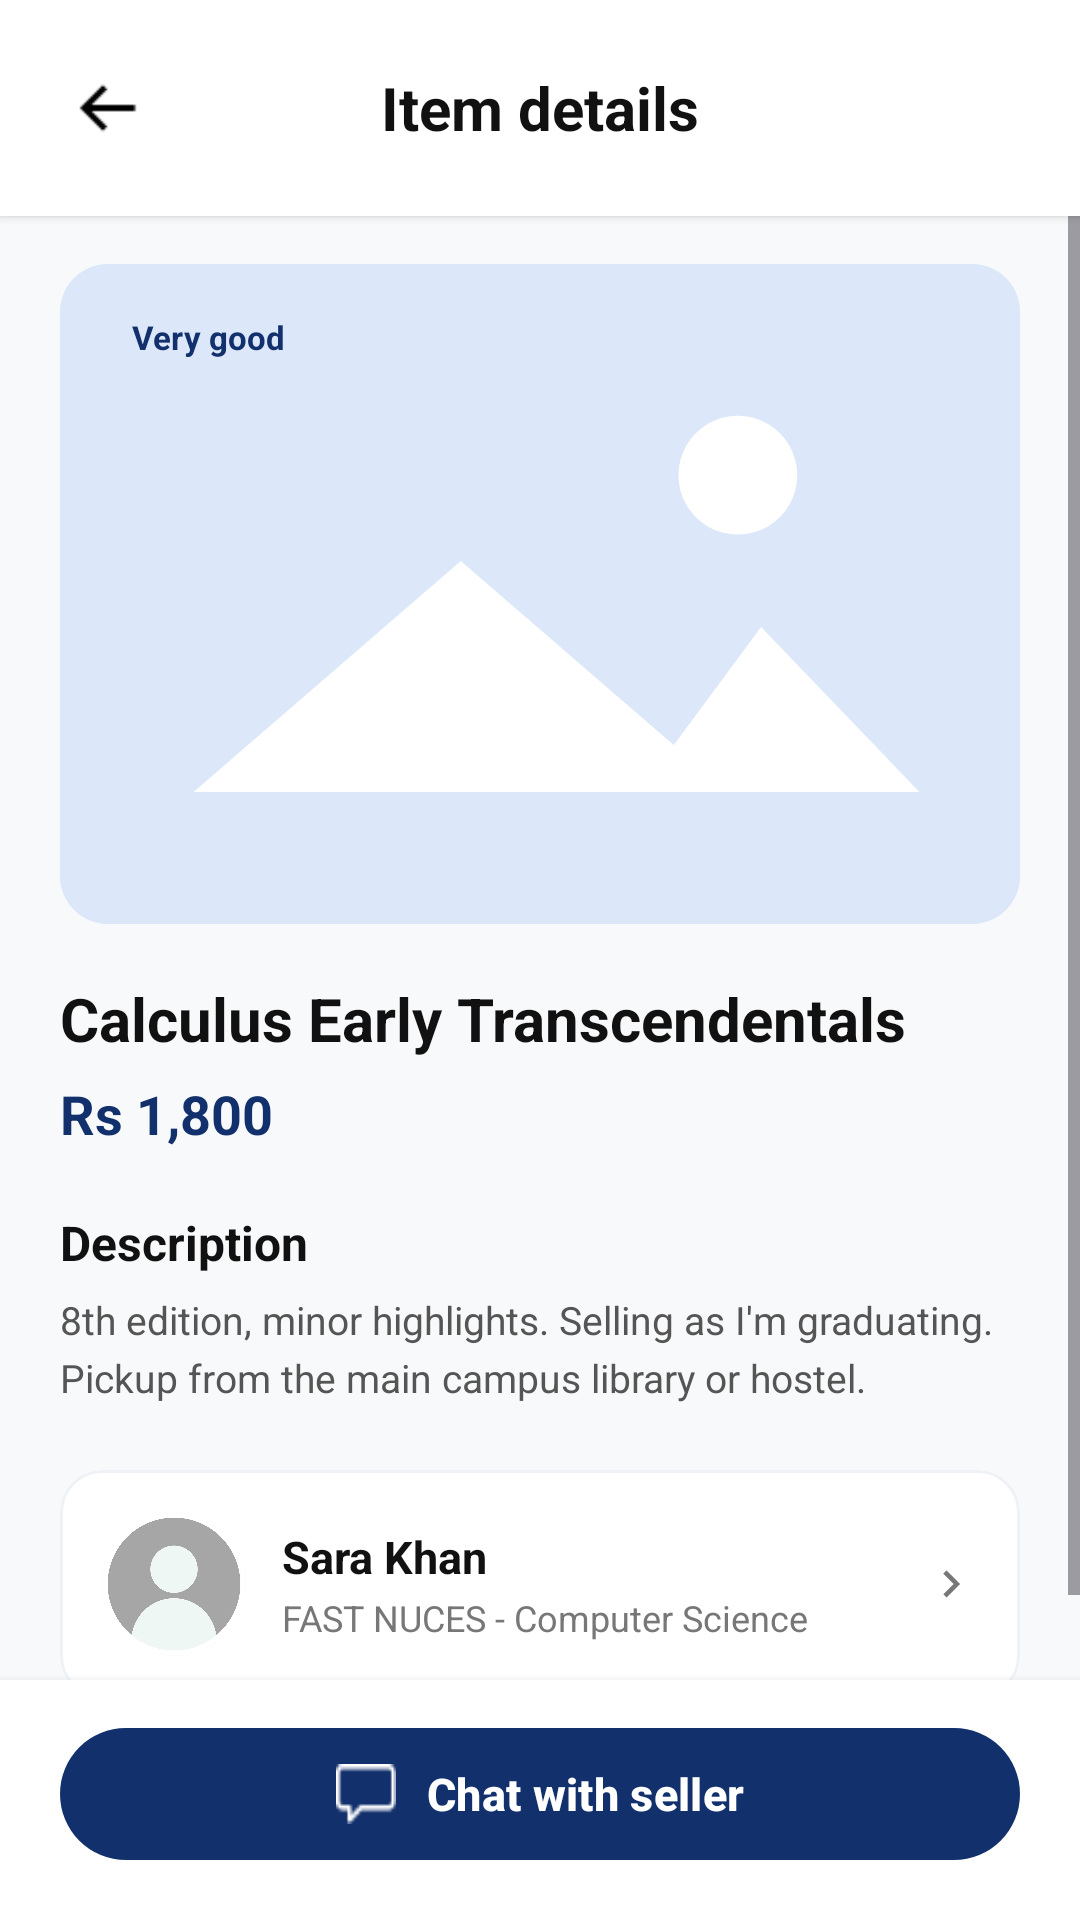

Point at icon controls on the screen. Image size 1080*1920, points as [x,y].
Back: [107,108]
Seller avatar: [174,1576]
View profile: [951,1584]
